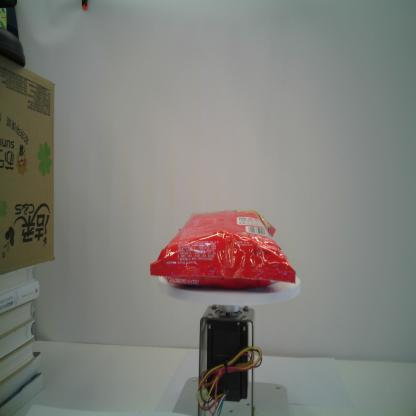Puffed Food: (148, 209, 297, 291)
